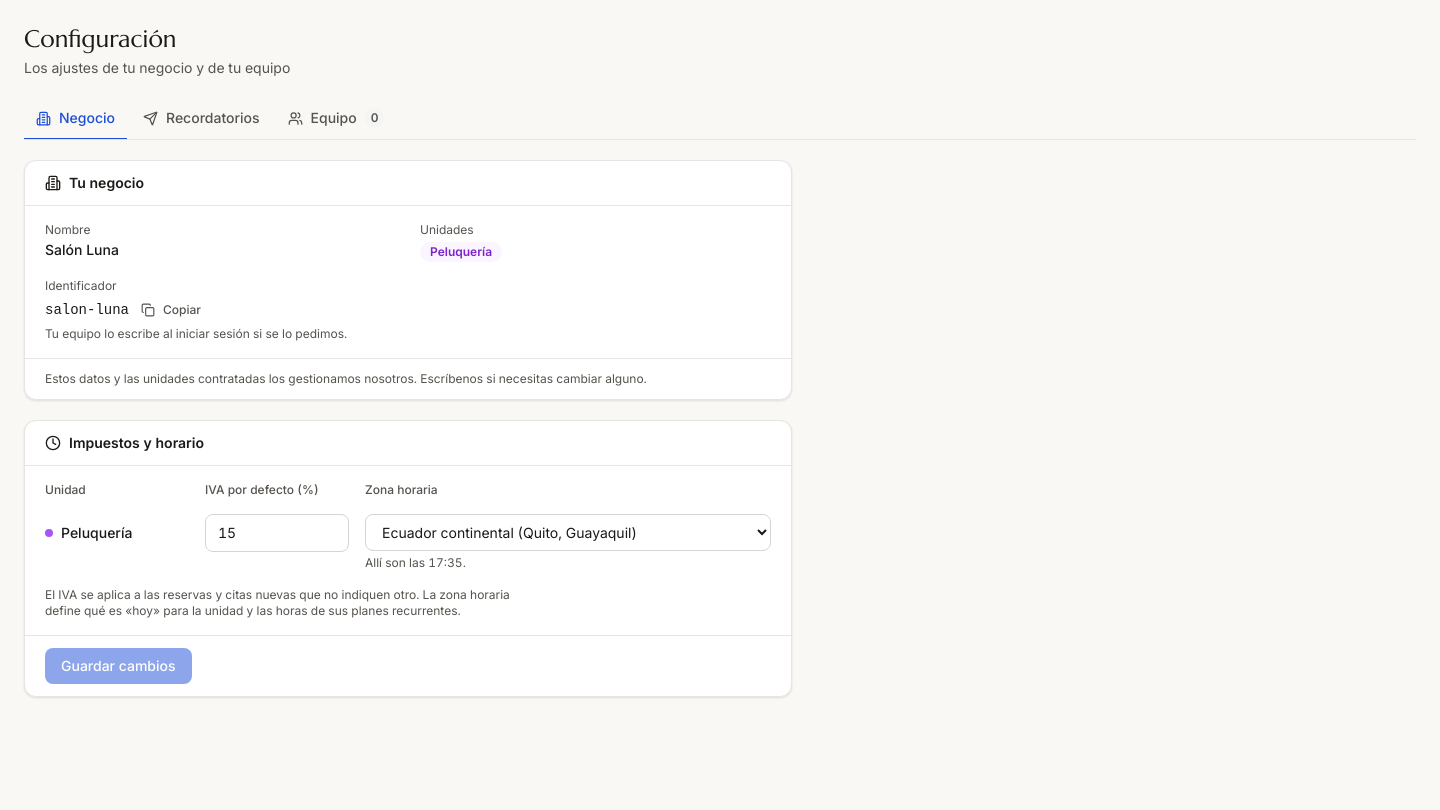
Scenario: saving a unit's settings › sends only the half of the unit its tab edits
Replace the text in the number field named "IVA por defecto" with "12" at (277, 533), box [205,514,349,552]
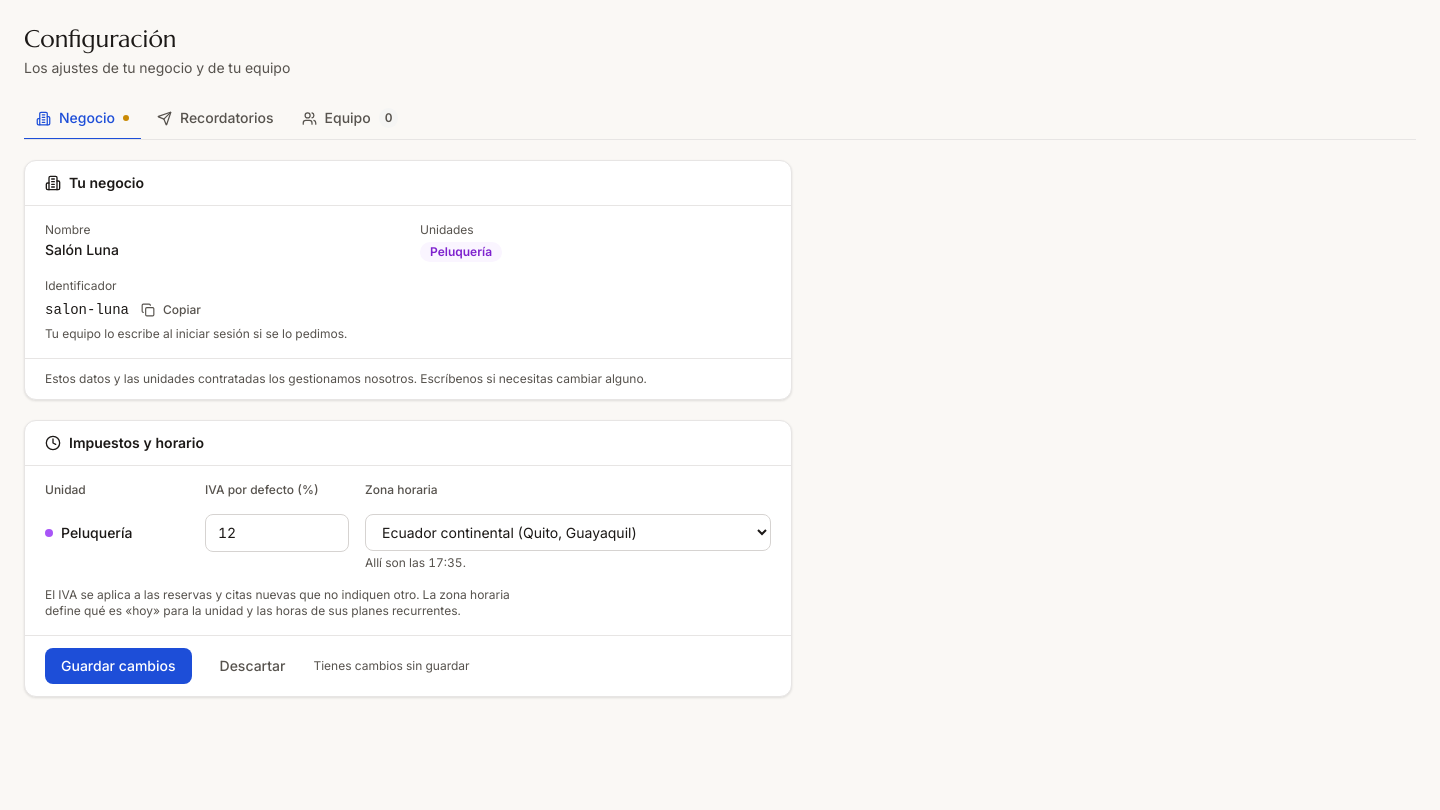
Result: the text "Tienes cambios sin guardar" is shown at [313,658,470,674]
Click the button "Guardar cambios" at (118, 666), box [45,648,192,684]
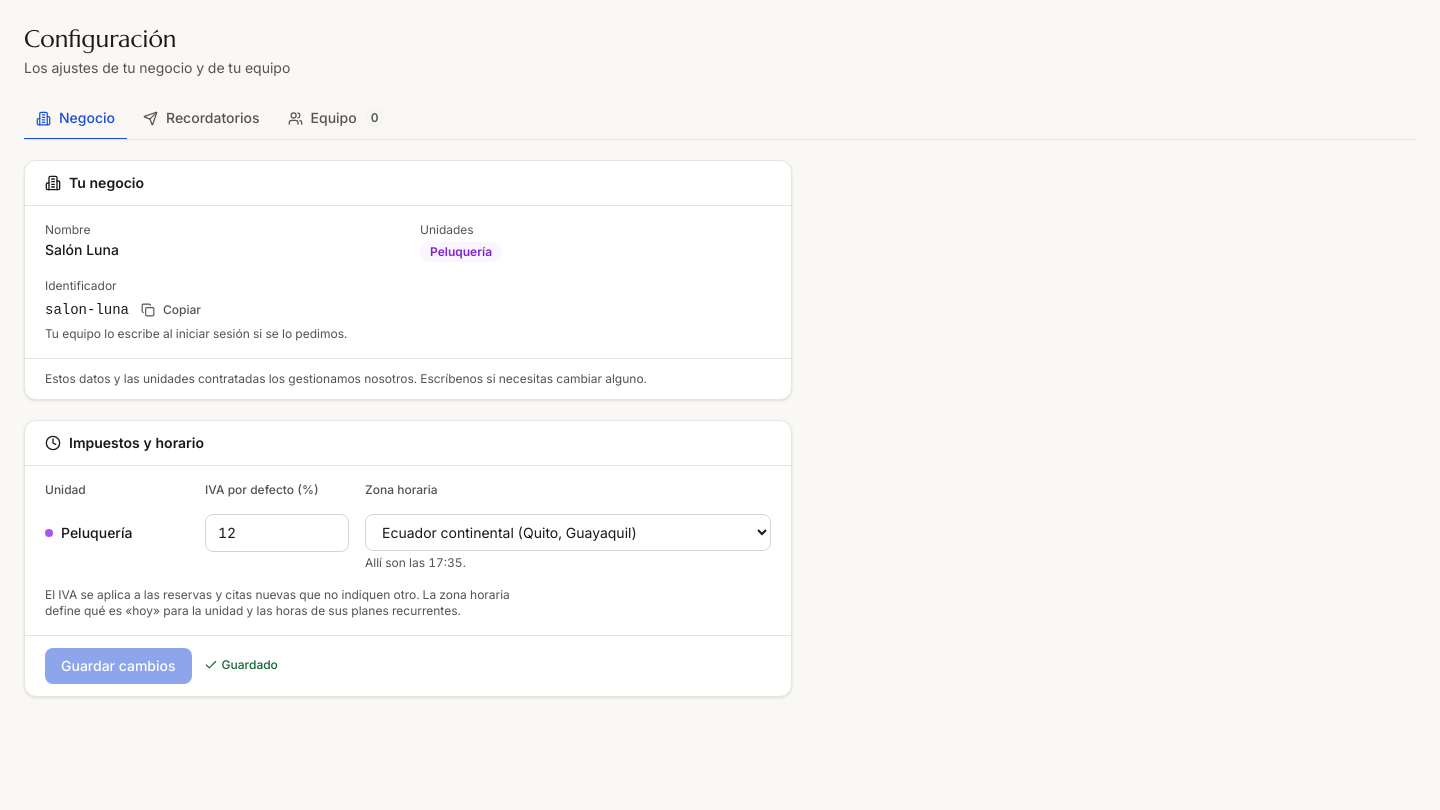
Result: the text "Guardado" is shown at [204,656,278,672]
